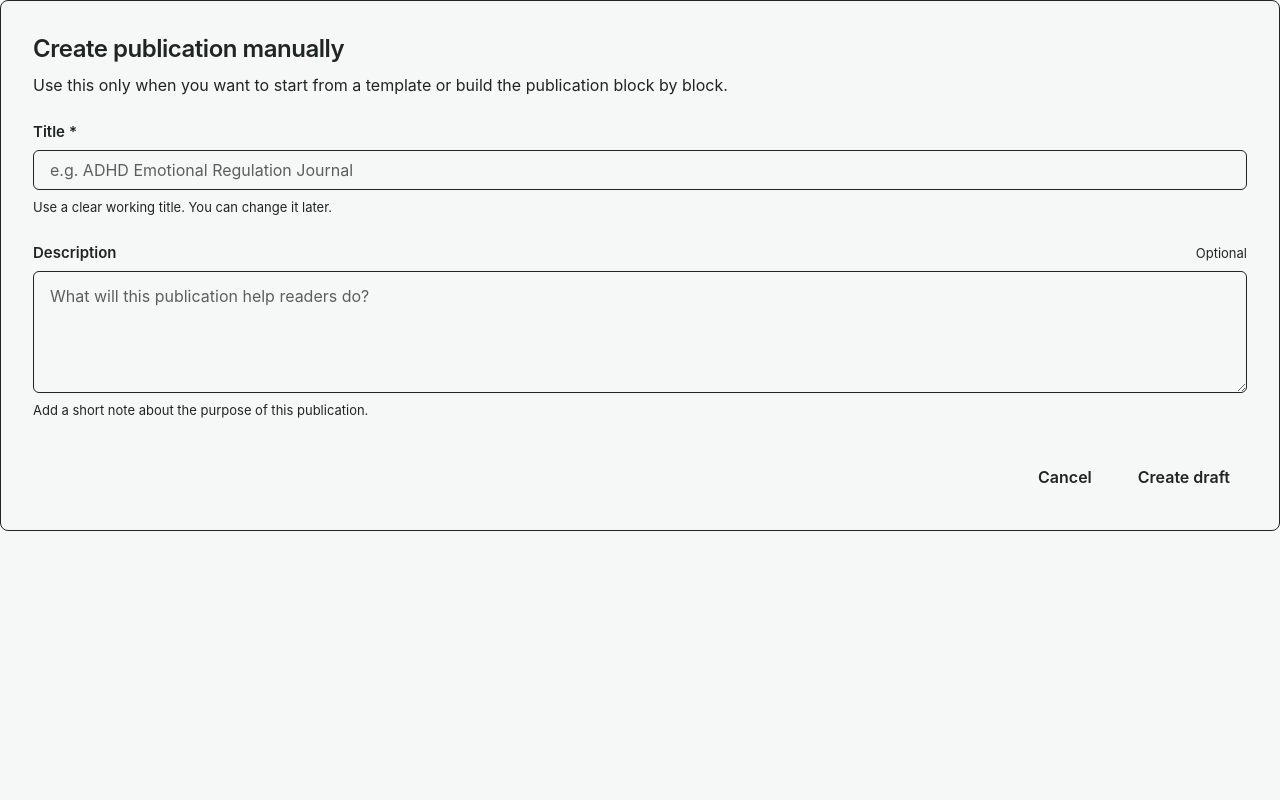
PublicationCreateForm › requires a publication title
Click the button "Create draft". click: (1184, 477)
box: [1121,456,1247,498]
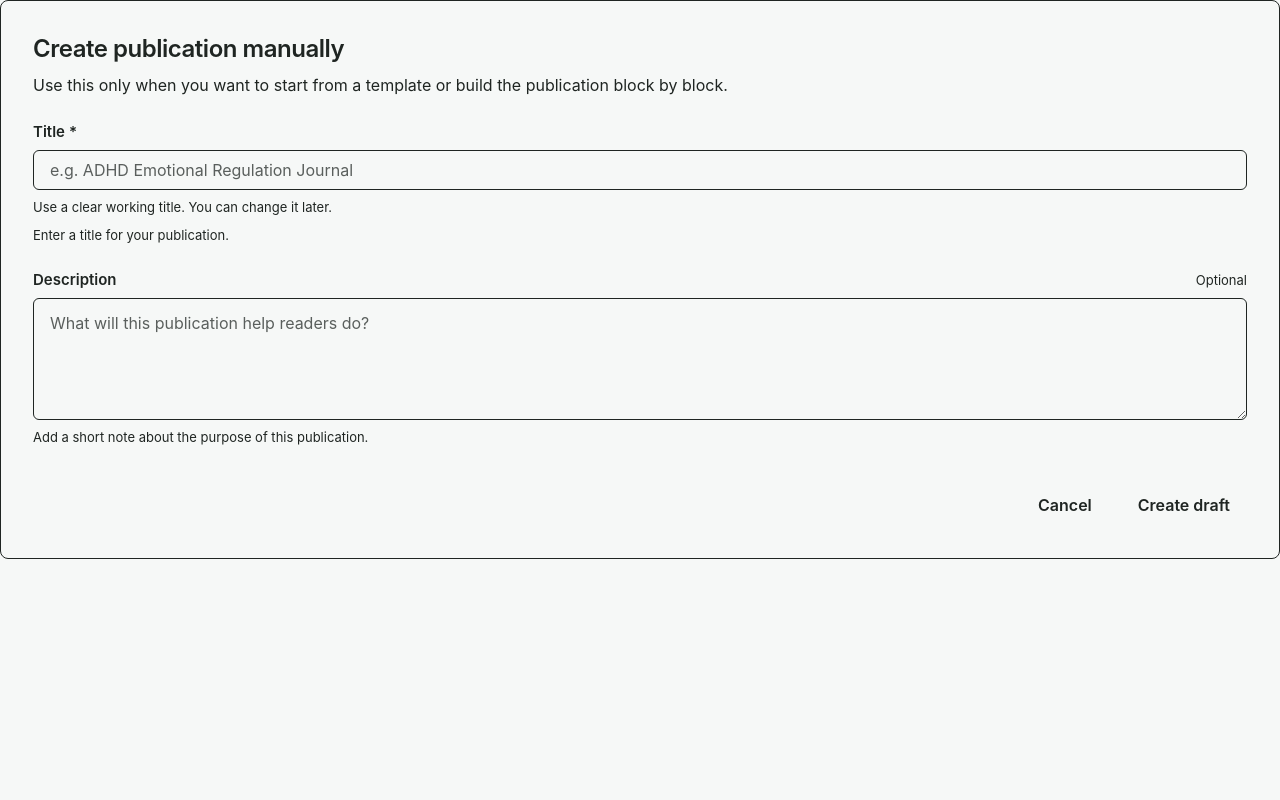
Check: the text "Enter a title for your publication." is shown, box [33,226,229,242]
